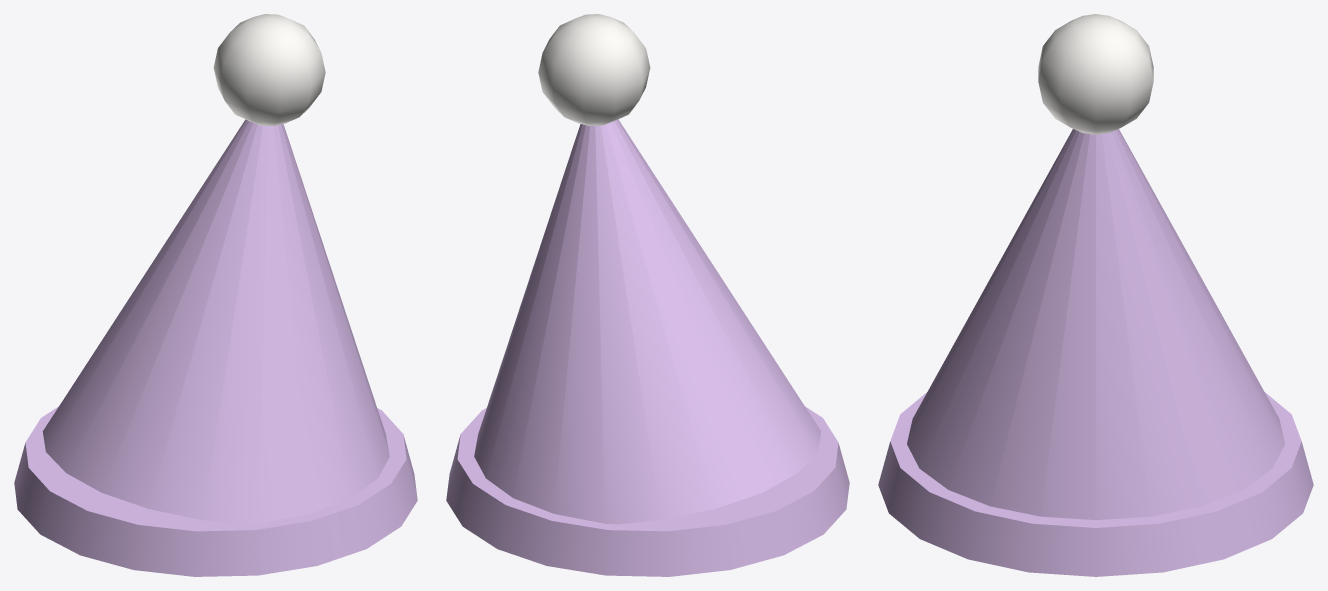
The model's file is party_hat.glb.
3 views of the same model, side by side, from view 1: azimuth 30°, elevation 25°; view 2: azimuth 150°, elevation 25°; view 3: azimuth 270°, elevation 25° (orthographic). The views are drawn at different scales.
Parts seen in each view (by area): view 1: Party Hat; view 2: Party Hat; view 3: Party Hat.
Part boxes in pixels (x1,y1,x2,y2): Party Hat: (14, 14, 417, 576); Party Hat: (446, 14, 849, 576); Party Hat: (878, 14, 1313, 576).
Size of the model in its own units: 0.36 by 0.45 by 0.36.
